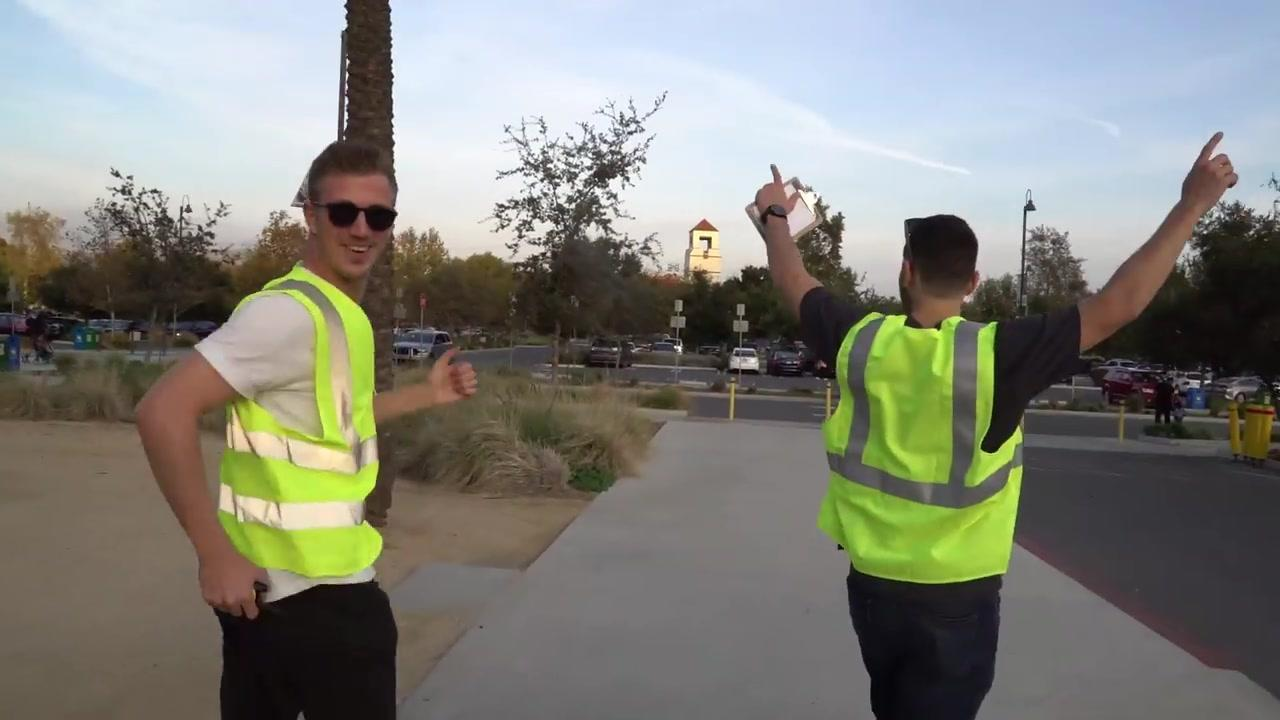vest: (815, 313, 1024, 584), (211, 260, 382, 581)
